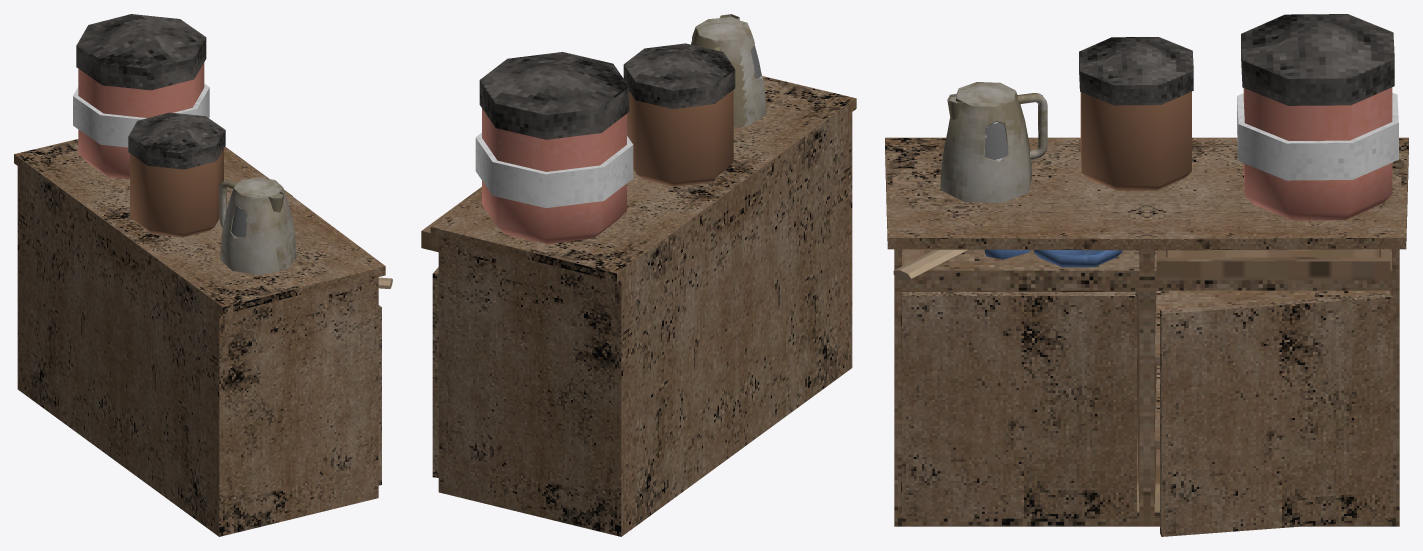
The model's file is Table.fbx.
3 views of the same model, side by side, from view 1: azimuth 30°, elevation 25°; view 2: azimuth 150°, elevation 25°; view 3: azimuth 270°, elevation 25° (orthographic). The views are drawn at different scales.
Visible parts, largest first — view 1: Table_low, Table_low.011, Table_low.010, Table_low.007, Table_low.004, Table_low.008, Table_low.002; view 2: Table_low, Table_low.010, Table_low.011, Table_low.007, Table_low.008, Table_low.004, Table_low.002; view 3: Table_low.002, Table_low, Table_low.010, Table_low.011, Table_low.007, Table_low.004, Table_low.003, Table_low.008, Table_low.005, Table_low.013, Table_low.012, Table_low.006.
Part boxes in pixels (left/top/right/bottom): Table_low: left=14, top=139, right=385, bottom=536; Table_low.011: left=76, top=14, right=206, bottom=90; Table_low.010: left=73, top=63, right=209, bottom=179; Table_low.007: left=130, top=149, right=223, bottom=237; Table_low.004: left=220, top=177, right=296, bottom=274; Table_low.008: left=128, top=112, right=225, bottom=169; Table_low.002: left=378, top=305, right=381, bottom=485; Table_low: left=430, top=76, right=856, bottom=536; Table_low.010: left=475, top=108, right=633, bottom=243; Table_low.011: left=479, top=52, right=629, bottom=139; Table_low.007: left=627, top=90, right=733, bottom=186; Table_low.008: left=623, top=43, right=735, bottom=108; Table_low.004: left=691, top=17, right=766, bottom=127; Table_low.002: left=432, top=267, right=438, bottom=477; Table_low.002: left=902, top=292, right=1392, bottom=536; Table_low: left=885, top=137, right=1408, bottom=526; Table_low.010: left=1237, top=87, right=1398, bottom=220; Table_low.011: left=1241, top=14, right=1394, bottom=105; Table_low.007: left=1080, top=91, right=1191, bottom=190; Table_low.004: left=940, top=82, right=1031, bottom=203; Table_low.003: left=1156, top=249, right=1390, bottom=280; Table_low.008: left=1079, top=37, right=1193, bottom=105; Table_low.005: left=1154, top=290, right=1390, bottom=449; Table_low.013: left=1033, top=250, right=1122, bottom=267; Table_low.012: left=893, top=249, right=969, bottom=281; Table_low.006: left=1017, top=93, right=1047, bottom=159.
Size of the model in its own units: 74.71 by 132 by 138.
1 material, 1 textured.
